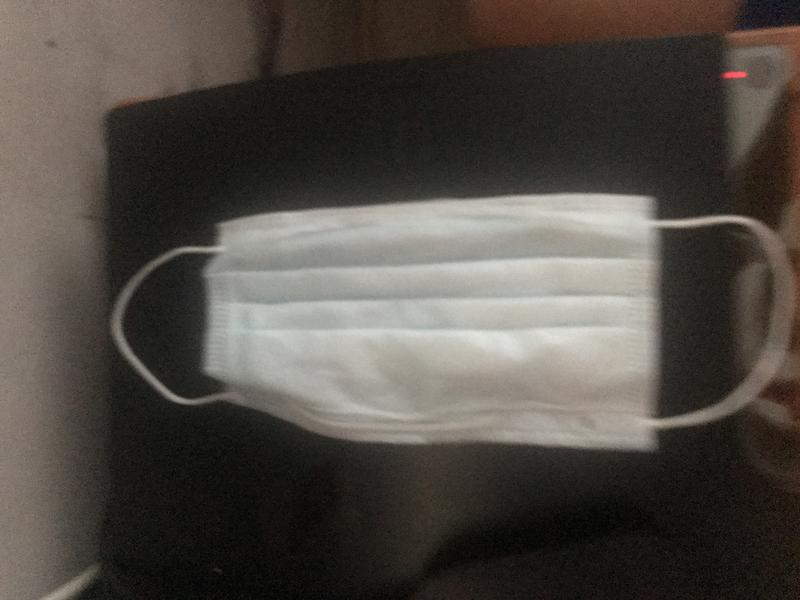medical_mask: (114, 205, 791, 452)
